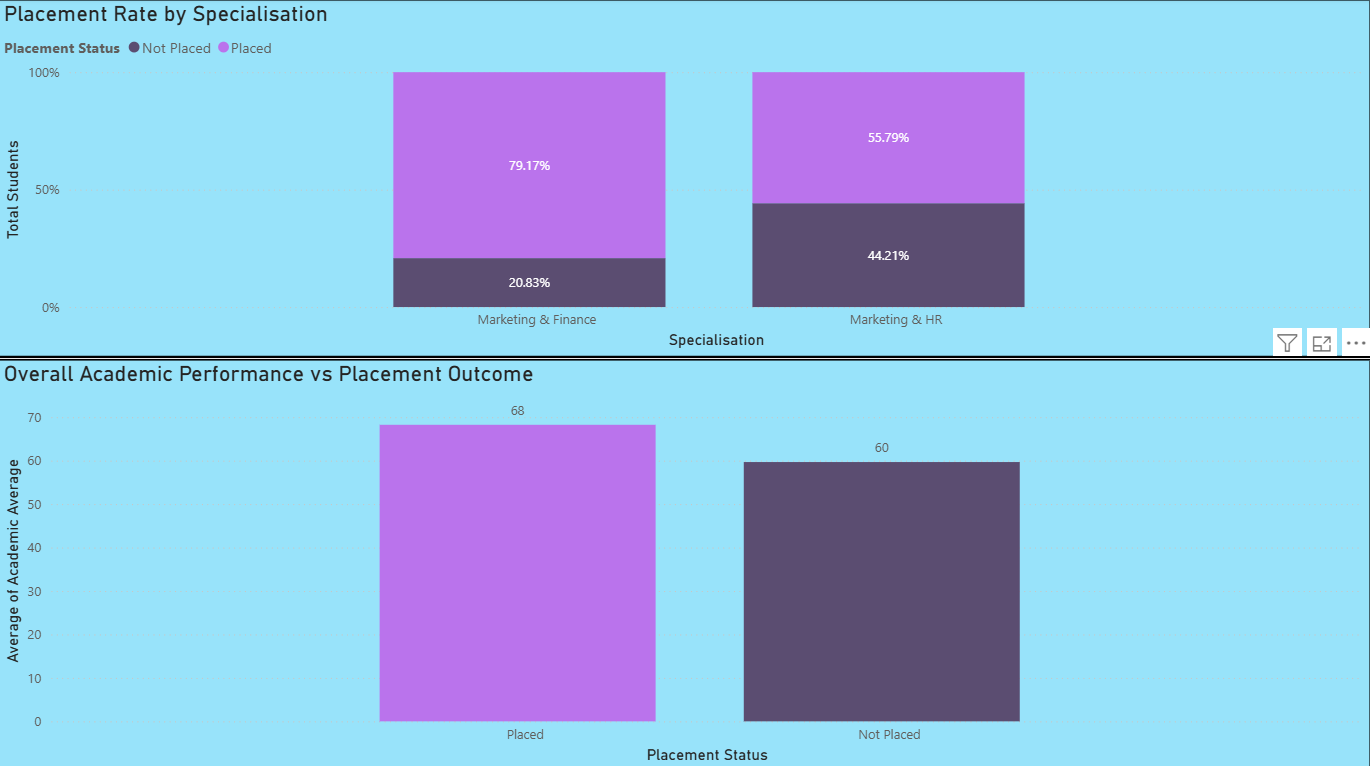

What the dashboard file says about the page in this screenshot:
{"tool":"powerbi","page":{"name":"Page 2","canvas":[1280,720],"ordinal":1},"visuals":[{"type":"hundredPercentStackedColumnChart","title":"Placement Rate by Specialisation","fields":{"Category":["placement_cleaned.Specialisation"],"Y":["placement_cleaned.Total Students"],"Series":["placement_cleaned.Placement Status"]},"box":[0,0,1280.3,334.8],"z":1},{"type":"clusteredColumnChart","title":"Overall Academic Performance vs Placement Outcome","fields":{"Category":["placement_cleaned.Placement Status"],"Y":["Avg(placement_cleaned.Academic Average)"]},"box":[0,334.8,1280.3,385.6],"z":2}]}

Visuals, with their boxes in screenshot pixels (x1, y1, x2, y2), scaled from the page's 1280x720 canvas onto the 1370x766 screenshot:
"Placement Rate by Specialisation" hundredPercentStackedColumnChart: <region>0, 0, 1369, 356</region>
"Overall Academic Performance vs Placement Outcome" clusteredColumnChart: <region>0, 356, 1369, 765</region>
